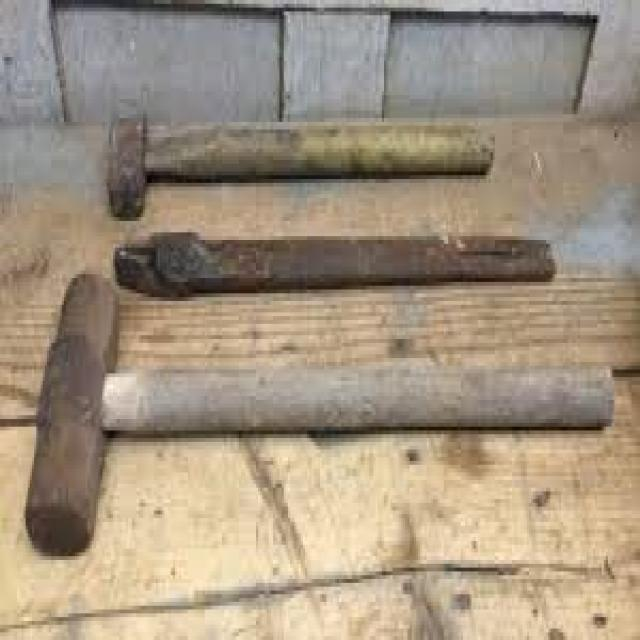hammer: (20, 264, 635, 570), (86, 90, 526, 230)
